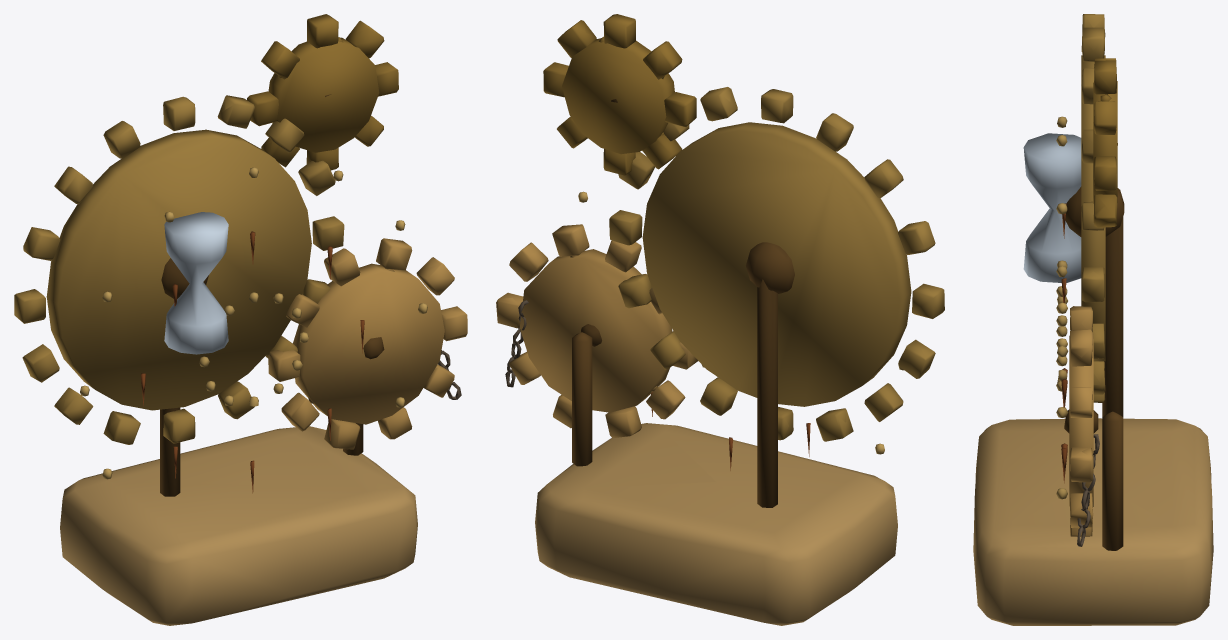
File: gear.glb
3 views of the same model, side by side, from view 1: azimuth 30°, elevation 25°; view 2: azimuth 150°, elevation 25°; view 3: azimuth 270°, elevation 25° (orthographic). The views are drawn at different scales.
Parts seen in each view (by area): view 1: gear; view 2: gear; view 3: gear.
Boxes of the visible parts, <box> form: gear: <box>14,14,467,625</box>; gear: <box>496,14,944,625</box>; gear: <box>973,14,1213,625</box>.
Size of the model in its own units: 2.21 by 2.51 by 0.9982.
